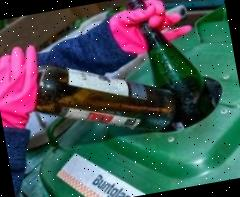glass: (24, 41, 181, 153), (124, 0, 221, 137)
